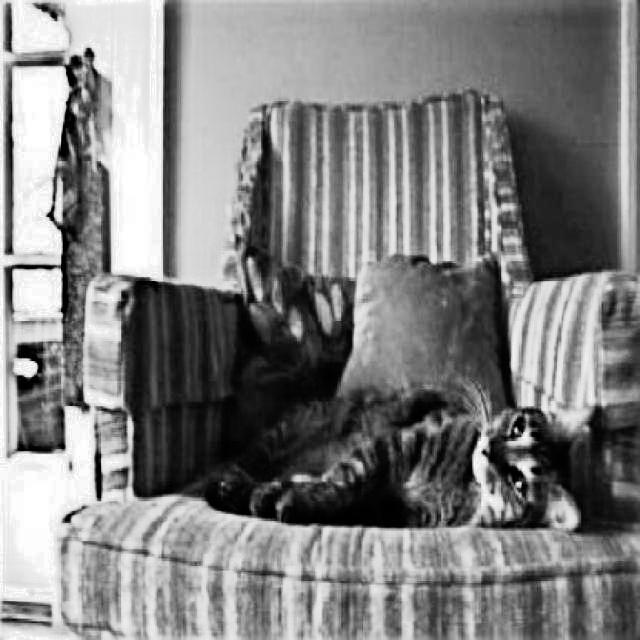Cat: (199, 382, 604, 542)
